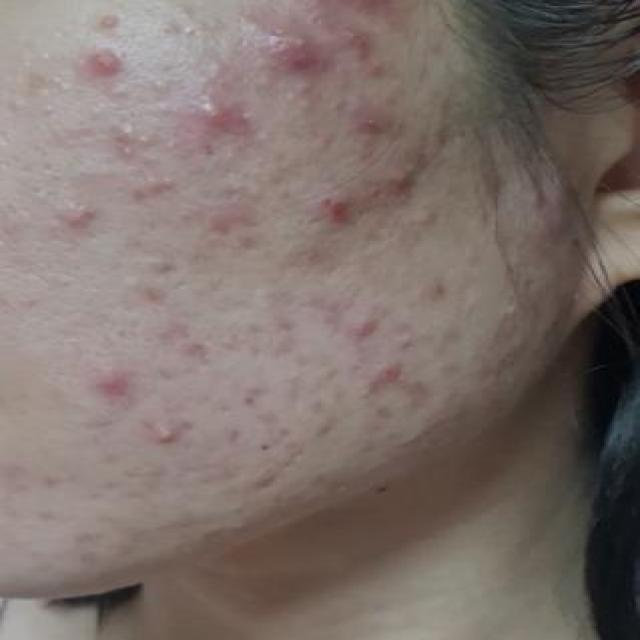comedone: (51, 195, 110, 242), (102, 116, 146, 169), (124, 173, 190, 208), (283, 78, 333, 118), (128, 249, 186, 277)
crystanlline: (257, 32, 349, 75), (168, 98, 253, 143), (382, 151, 449, 197)
papule: (80, 32, 171, 90), (311, 196, 363, 244), (92, 369, 154, 405)
pustule: (128, 408, 196, 465)
